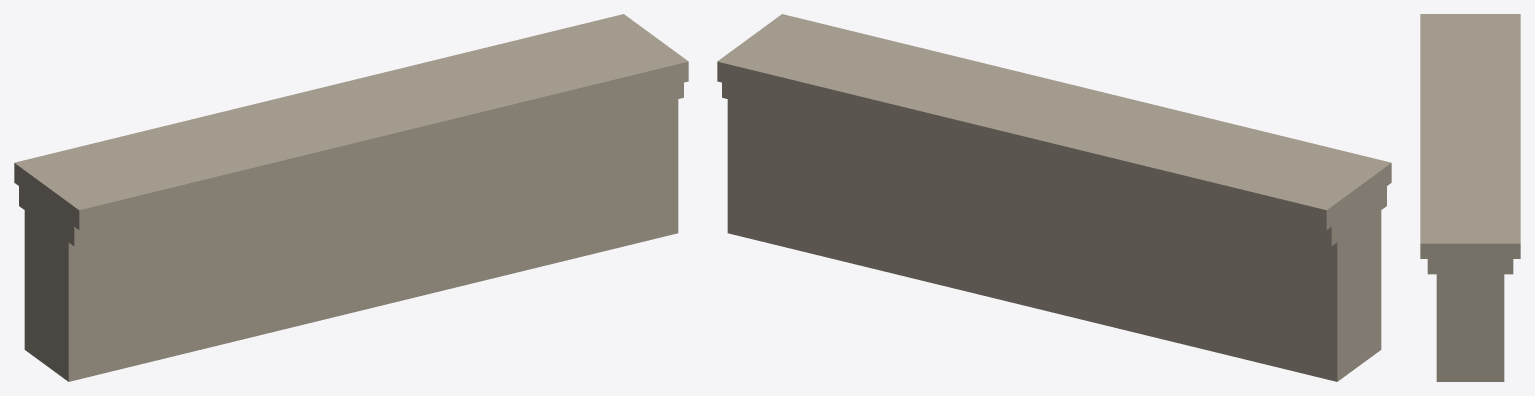
Rendered from Village_Wall_Plaster_0.5m_Roof_A.fbx.
3 views of the same model, side by side, from view 1: azimuth 30°, elevation 25°; view 2: azimuth 150°, elevation 25°; view 3: azimuth 270°, elevation 25° (orthographic). The views are drawn at different scales.
Visible parts, largest first — view 1: Village_Wall_2m_Roof_A.005; view 2: Village_Wall_2m_Roof_A.005; view 3: Village_Wall_2m_Roof_A.005.
Boxes of the visible parts, <box> form: Village_Wall_2m_Roof_A.005: <box>14,14,688,381</box>; Village_Wall_2m_Roof_A.005: <box>717,14,1391,381</box>; Village_Wall_2m_Roof_A.005: <box>1420,14,1520,381</box>.
Bounding box in the file's own units: 200 × 56.23 × 36.91.
